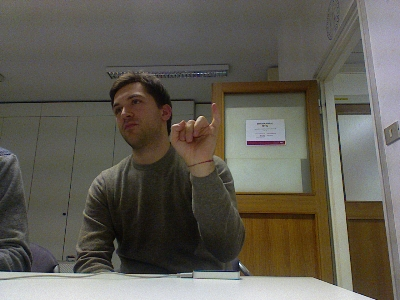小指: (168, 101, 220, 163)
